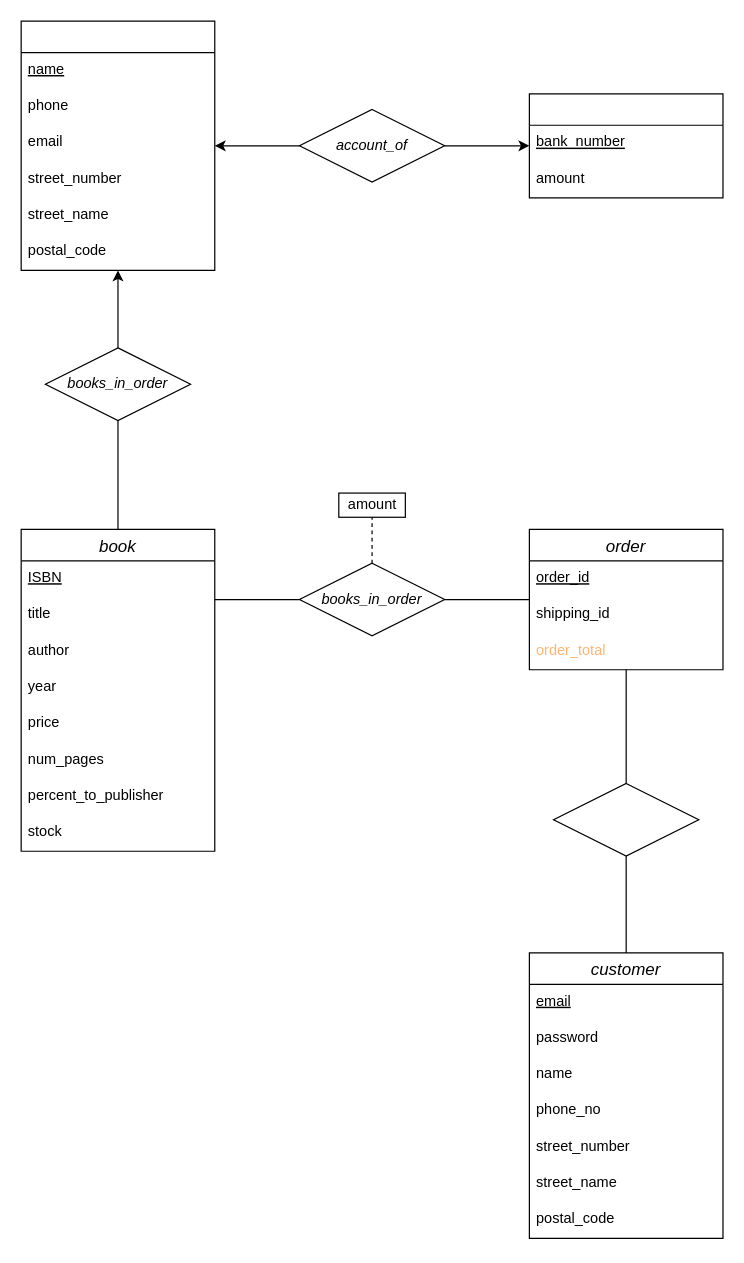
This 744x1263 diagram has some shape labels left out. Each missing label, with the box of its shape:
bank_account: (528, 93, 723, 198)
order_of: (552, 782, 699, 856)
publisher: (20, 20, 215, 270)
